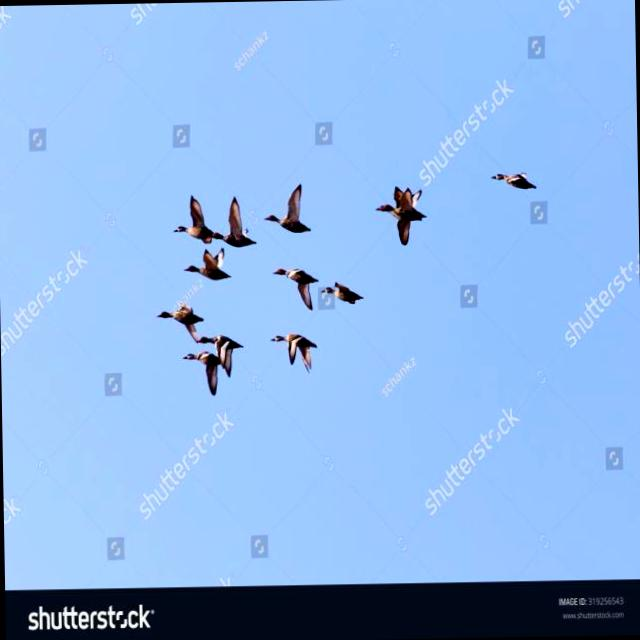bird: (371, 178, 438, 253), (214, 192, 264, 274), (317, 266, 375, 328), (146, 292, 208, 348), (163, 190, 220, 250), (263, 320, 324, 376), (166, 244, 238, 288), (174, 346, 232, 400), (264, 178, 318, 236), (261, 256, 327, 302), (484, 153, 546, 201), (213, 324, 248, 362)
